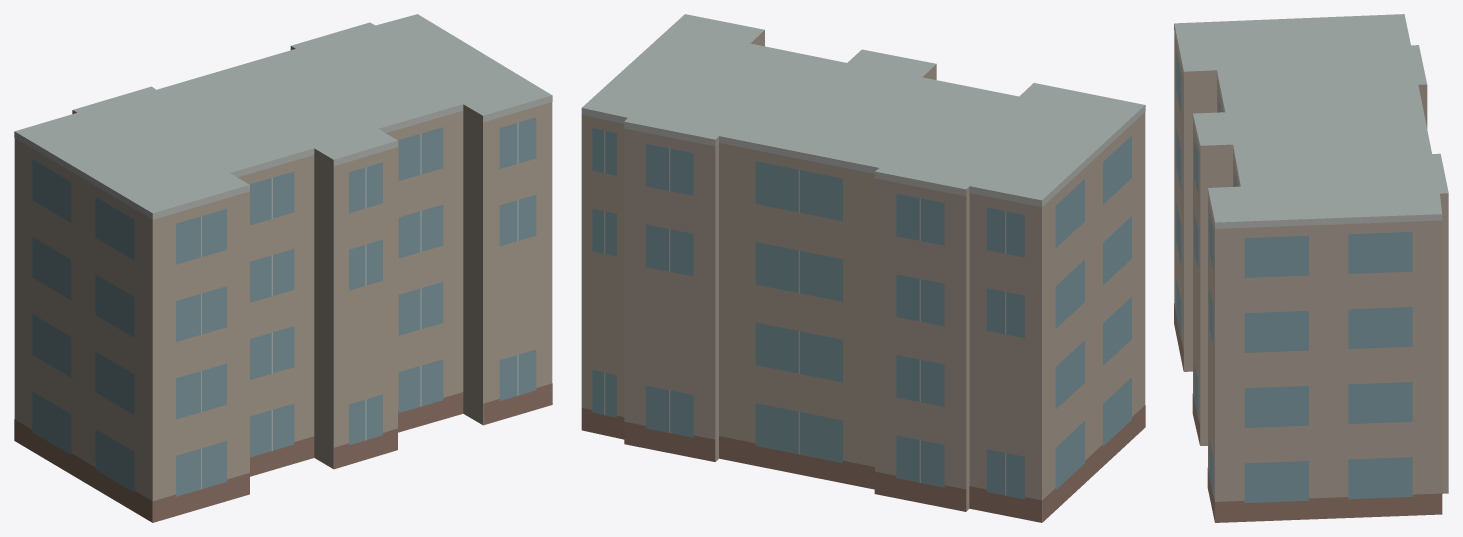
Rendered from survey-upis-32757115.glb.
The picture shows the model from 3 angles, left to right: view 1: azimuth 30°, elevation 25°; view 2: azimuth 150°, elevation 25°; view 3: azimuth 270°, elevation 25°; orthographic projection. The views are drawn at different scales.
Parts seen in each view (by area): view 1: survey-upis-32757115.tmp; view 2: survey-upis-32757115.tmp; view 3: survey-upis-32757115.tmp.
Part boxes in pixels (x1,y1,x2,y2): survey-upis-32757115.tmp: [14, 14, 552, 522]; survey-upis-32757115.tmp: [581, 14, 1145, 522]; survey-upis-32757115.tmp: [1174, 14, 1448, 522].
Size of the model in its own units: 17.21 by 11.55 by 9.58.
